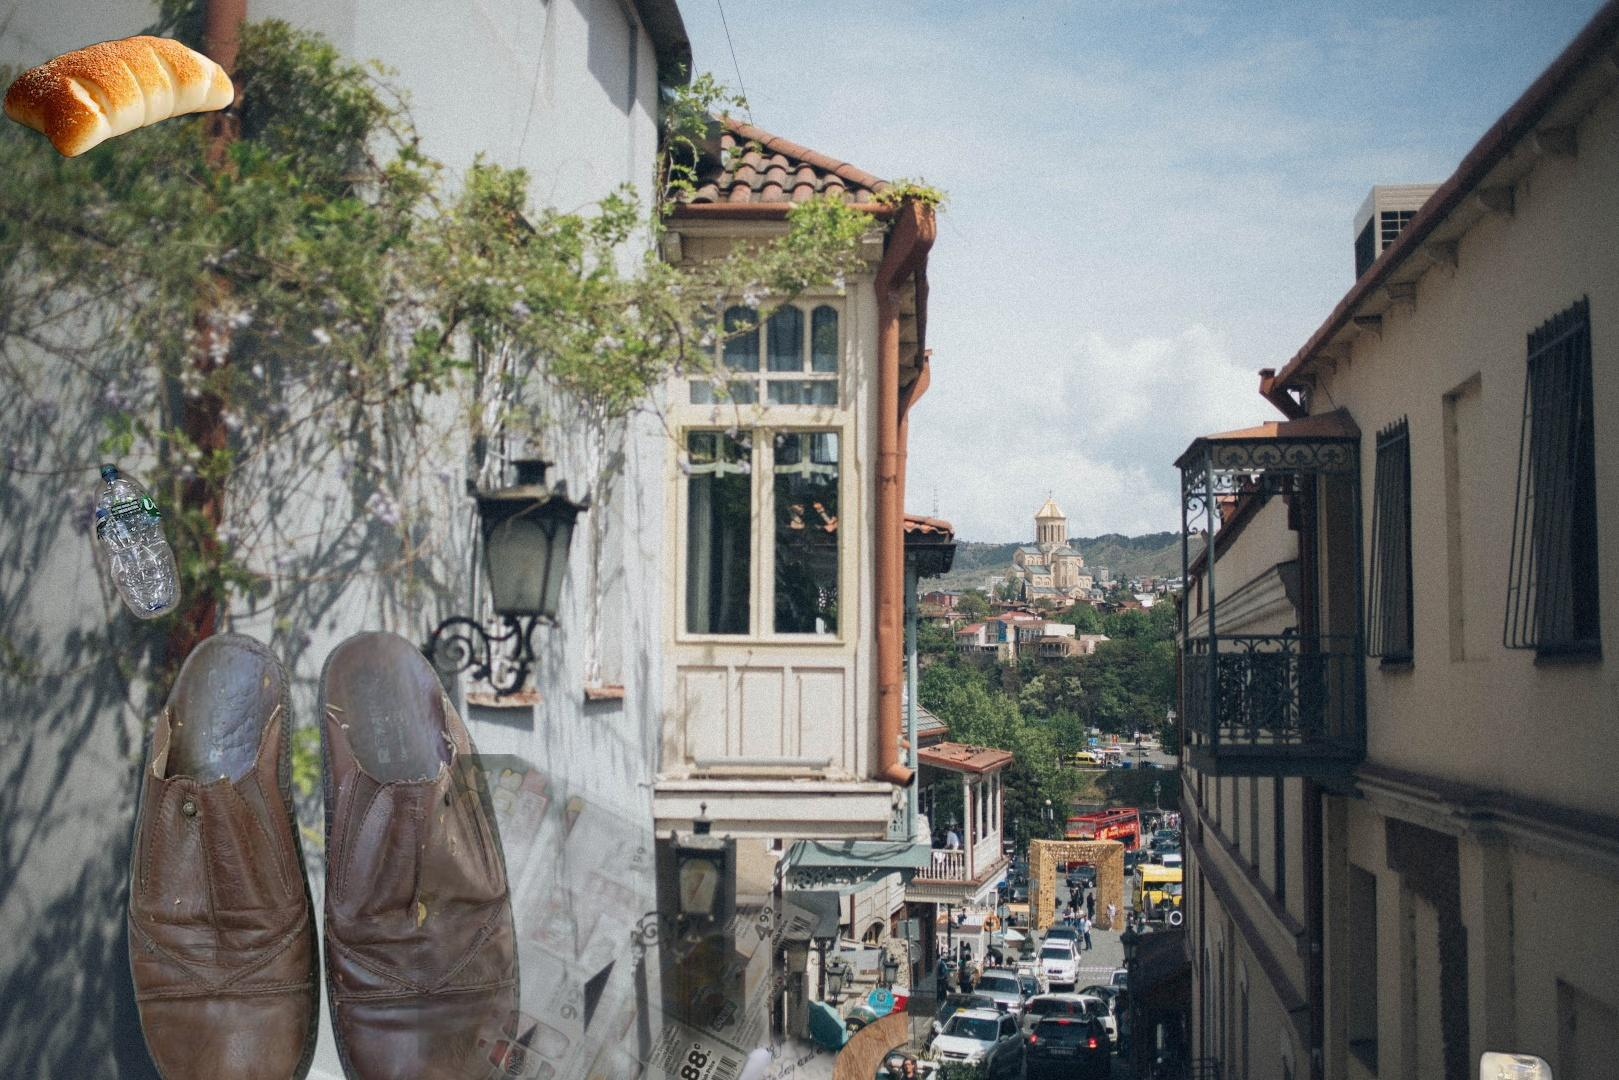biological: (2, 33, 237, 160)
paper: (418, 755, 908, 1080)
penholder: (190, 941, 908, 1080)
plastic-bottles: (90, 459, 184, 626), (1375, 1044, 1558, 1080)
shoes: (125, 627, 524, 1080)
